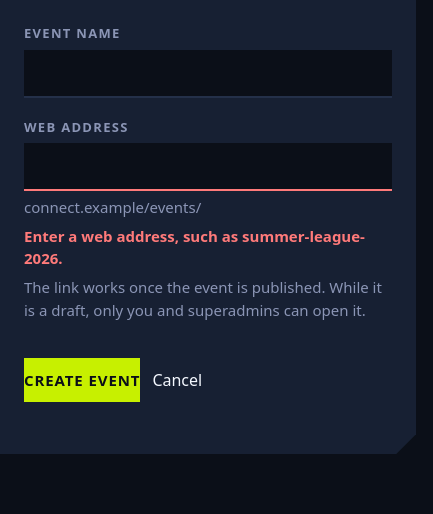
New event › shows what the server says when the address was taken meanwhile
The image size is (433, 514).
Step 1. Type "Harbour" into the field labelled "Event name" → (208, 74), box [24, 50, 392, 98]
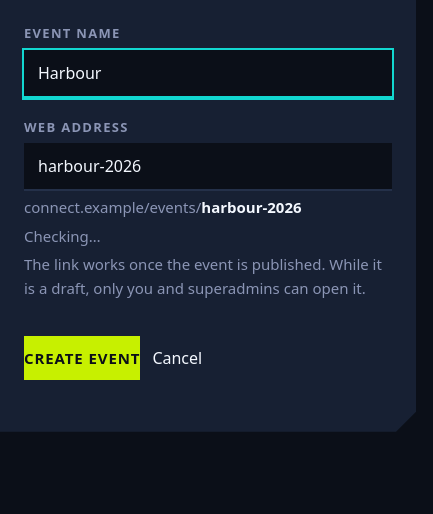
Step 2. Click the button "Create event" → click(82, 358), box [24, 336, 140, 380]
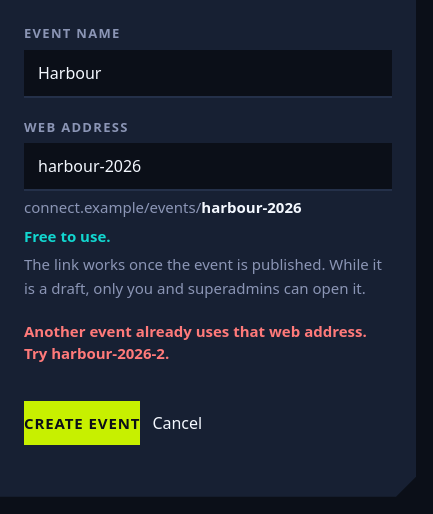
Check: the message shows "Try harbour-2026-2.", box [24, 321, 367, 363]
